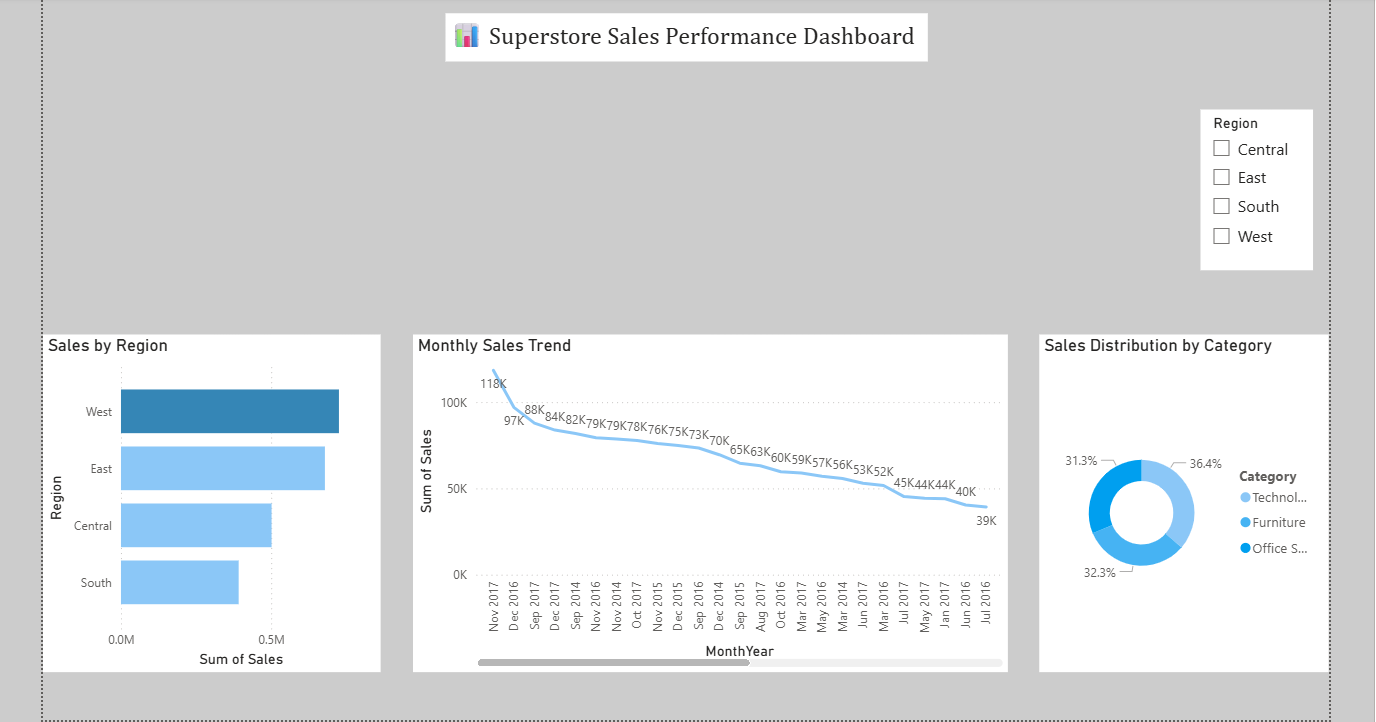

What the dashboard file says about the page in this screenshot:
{"tool":"powerbi","page":{"name":"Page 1","canvas":[1280,720],"ordinal":0},"visuals":[{"type":"lineChart","title":"Monthly Sales Trend","fields":{"Category":["Superstore-Sales.MonthYear"],"Y":["Sum(Superstore-Sales.Sales)"]},"box":[368,336,592,336],"z":0},{"type":"clusteredBarChart","title":"Sales by Region","fields":{"Category":["Superstore-Sales.Region"],"Y":["Sum(Superstore-Sales.Sales)"]},"box":[0,336,336,336],"z":1000},{"type":"donutChart","title":"Sales Distribution by Category","fields":{"Category":["Superstore-Sales.Category"],"Y":["Sum(Superstore-Sales.Sales)"]},"box":[992,336,288,336],"z":2000},{"type":"slicer","fields":{"Values":["Superstore-Sales.Region"]},"box":[1152,112,112,160],"z":3000},{"type":"textbox","box":[400,16,480,48],"z":4000}]}

Visuals, with their boxes in screenshot pixels (x1, y1, x2, y2):
"Monthly Sales Trend" lineChart: bbox=(424, 331, 1008, 663)
"Sales by Region" clusteredBarChart: bbox=(61, 331, 392, 663)
"Sales Distribution by Category" donutChart: bbox=(1040, 331, 1324, 663)
slicer - Superstore-Sales.Region: bbox=(1197, 110, 1308, 268)
textbox: bbox=(456, 16, 929, 63)
